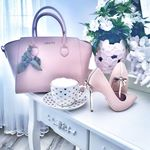cups: (47, 75, 88, 108)
